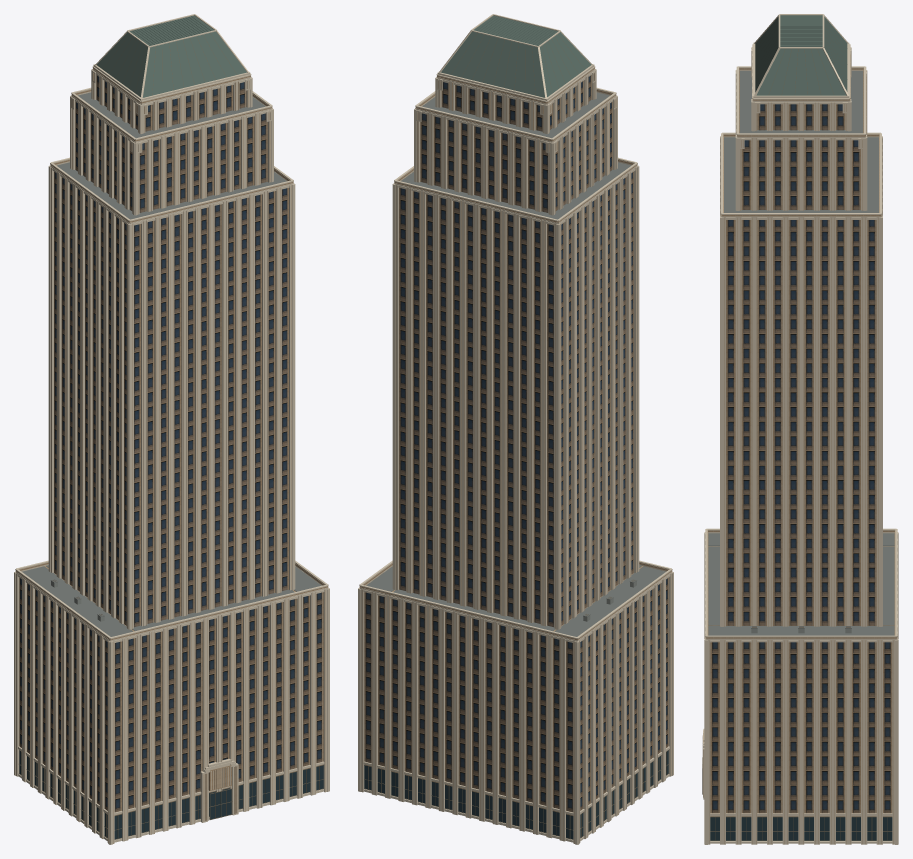
File: von-badel.glb
The picture shows the model from 3 angles, left to right: view 1: azimuth 30°, elevation 25°; view 2: azimuth 150°, elevation 25°; view 3: azimuth 270°, elevation 25°; orthographic projection.
Parts seen in each view (by area): view 1: trim, stone, shaft, podium, roof, crown, terrace, glass, bronze; view 2: trim, stone, shaft, podium, roof, crown, terrace, glass, bronze; view 3: trim, stone, shaft, podium, terrace, roof, crown, glass, bronze.
Boxes of the visible parts, box(x1,y1,x2,y2) form: trim: box(14, 14, 329, 844); stone: box(15, 68, 328, 843); shaft: box(54, 172, 287, 627); podium: box(20, 578, 322, 812); roof: box(96, 15, 246, 97); crown: box(76, 75, 266, 212); terrace: box(22, 92, 321, 636); glass: box(19, 750, 323, 839); bronze: box(19, 33, 323, 839); trim: box(358, 14, 673, 844); stone: box(359, 68, 672, 843); shaft: box(400, 172, 633, 627); podium: box(365, 578, 667, 812); roof: box(441, 15, 591, 97); crown: box(421, 75, 611, 212); terrace: box(366, 92, 665, 636); glass: box(364, 750, 668, 839); bronze: box(364, 33, 668, 839); trim: box(702, 14, 898, 844); stone: box(703, 54, 897, 844); shaft: box(727, 220, 875, 625); podium: box(712, 642, 890, 813); terrace: box(708, 71, 894, 635); roof: box(755, 15, 847, 95); crown: box(743, 104, 859, 209); glass: box(710, 817, 892, 840); bronze: box(702, 33, 892, 840).
Bounding box in the file's own units: 57.35 × 187 × 43.78.
Materials: 10 (4 with a texture image).
